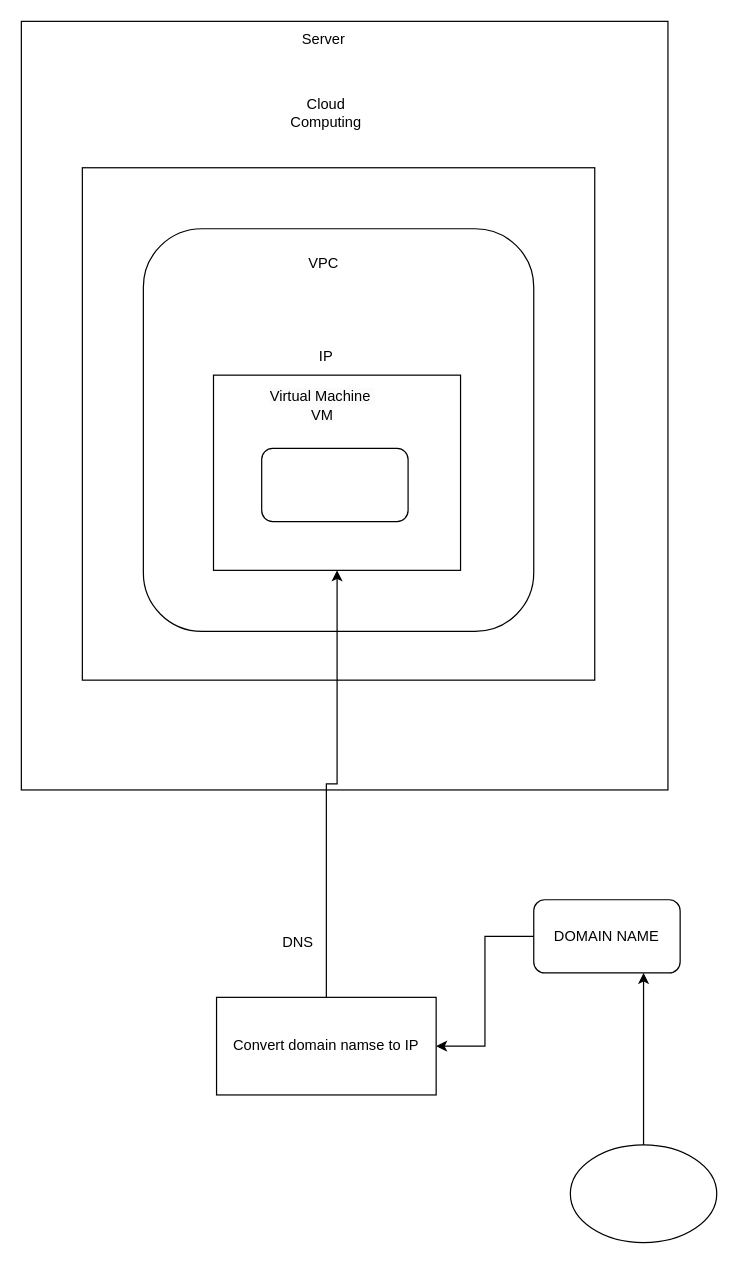
This 738x1264 diagram has some shape labels left out. Each missing label, with the centre of its shape:
CLIENT: the point at 643,1193
WEB SERVER APP SERVER: the point at 334,484
